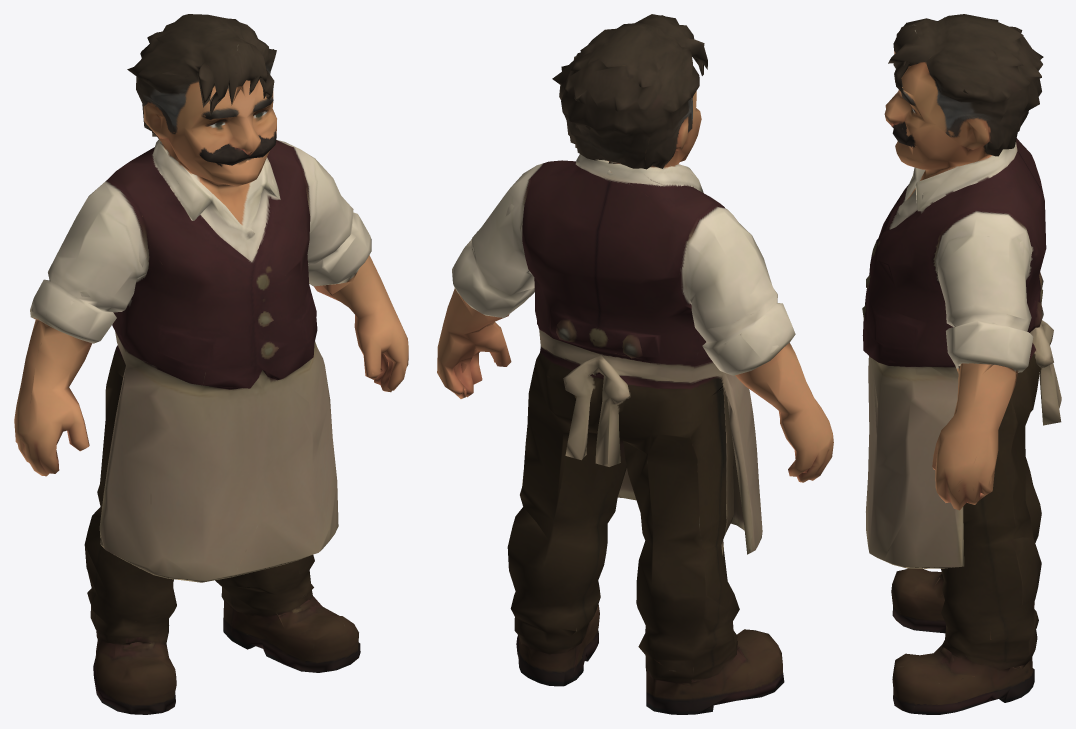
The model's file is generated_textured.glb.
The picture shows the model from 3 angles, left to right: view 1: azimuth 30°, elevation 25°; view 2: azimuth 150°, elevation 25°; view 3: azimuth 270°, elevation 25°; orthographic projection.
Bounding box in the file's own units: 0.6091 × 0.9798 × 0.276.
Materials: 1 (1 with a texture image).
